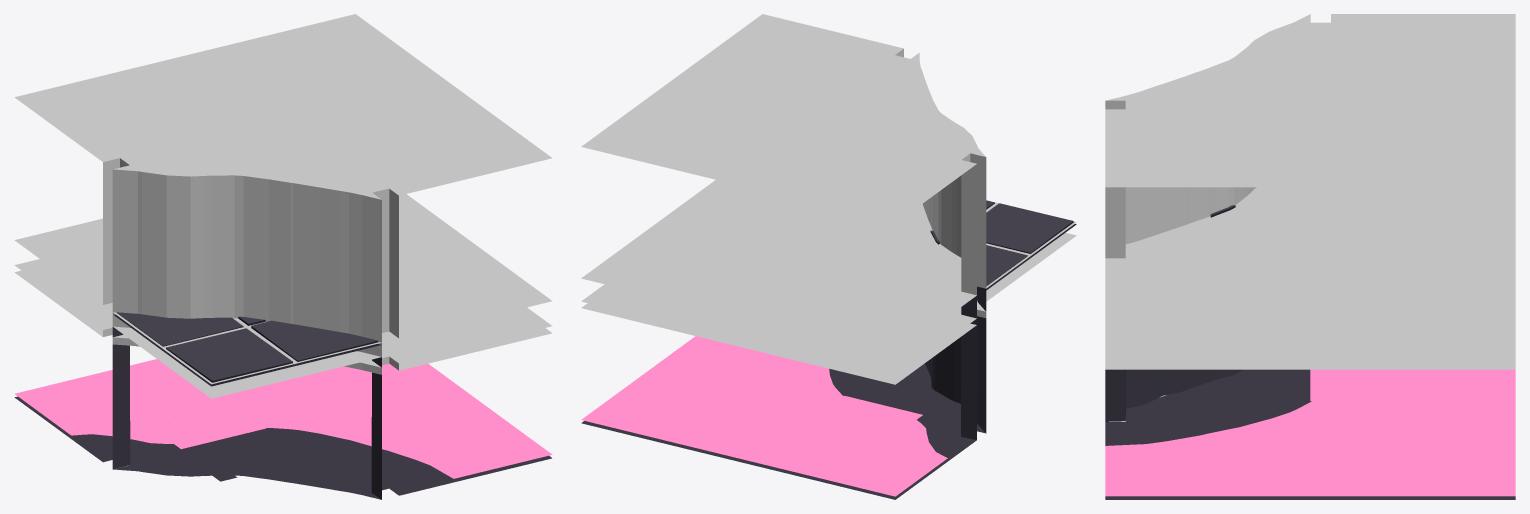
Rendered from Tile_LLLF.fbx.
3 views of the same model, side by side, from view 1: azimuth 30°, elevation 25°; view 2: azimuth 150°, elevation 25°; view 3: azimuth 270°, elevation 25° (orthographic). The views are drawn at different scales.
Parts seen in each view (by area): view 1: Tile_LLLF_ColCrackBlocker, Tile_LLLF, Tile_LLLF_ColCrackSurface, Tile_LLLF_ColGround; view 2: Tile_LLLF_ColCrackBlocker, Tile_LLLF, Tile_LLLF_ColCrackSurface, Tile_LLLF_ColGround; view 3: Tile_LLLF_ColCrackBlocker, Tile_LLLF, Tile_LLLF_ColCrackSurface.
Boxes of the visible parts, <box> form: Tile_LLLF_ColCrackBlocker: <box>14,14,552,342</box>; Tile_LLLF: <box>14,312,552,499</box>; Tile_LLLF_ColCrackSurface: <box>14,259,552,374</box>; Tile_LLLF_ColGround: <box>112,312,381,398</box>; Tile_LLLF_ColCrackBlocker: <box>581,14,986,354</box>; Tile_LLLF: <box>581,200,1076,499</box>; Tile_LLLF_ColCrackSurface: <box>581,284,986,384</box>; Tile_LLLF_ColGround: <box>986,200,1076,301</box>; Tile_LLLF_ColCrackBlocker: <box>1105,14,1515,336</box>; Tile_LLLF: <box>1105,205,1515,499</box>; Tile_LLLF_ColCrackSurface: <box>1105,336,1515,369</box>.
Bounding box in the file's own units: 5 × 4.2 × 5.
